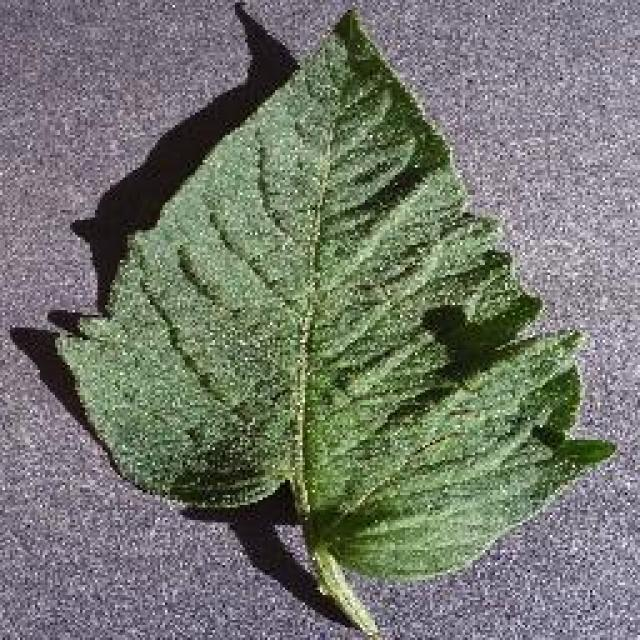Healthy: (22, 0, 638, 640)
